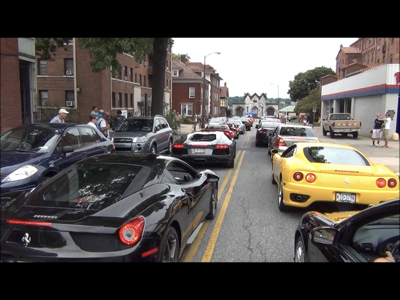licence: (336, 192, 357, 204)
